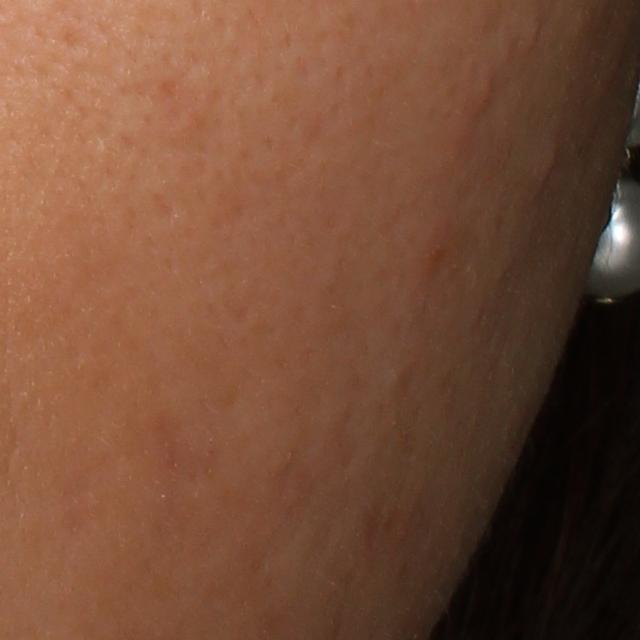comedo: (384, 362, 415, 396)
papule: (468, 77, 493, 115)
